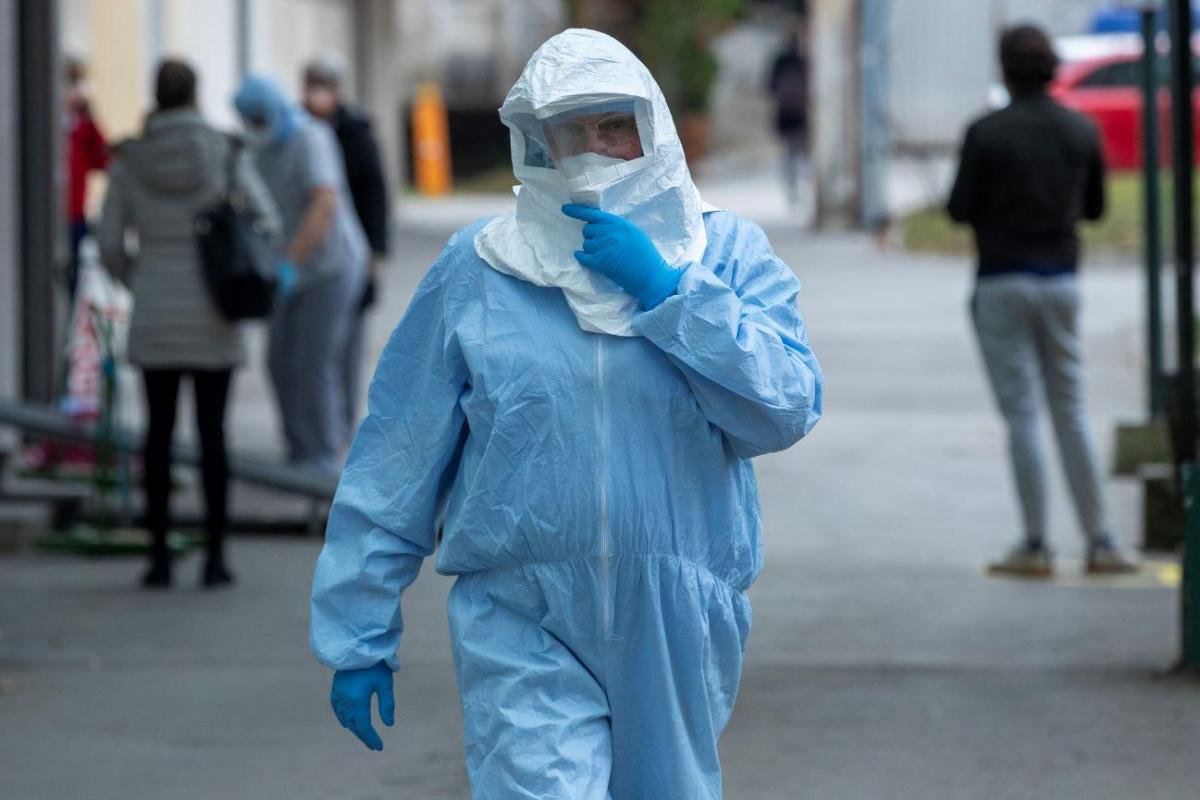Coverall: (318, 31, 815, 800)
Gloves: (564, 204, 690, 314), (324, 658, 414, 757)
